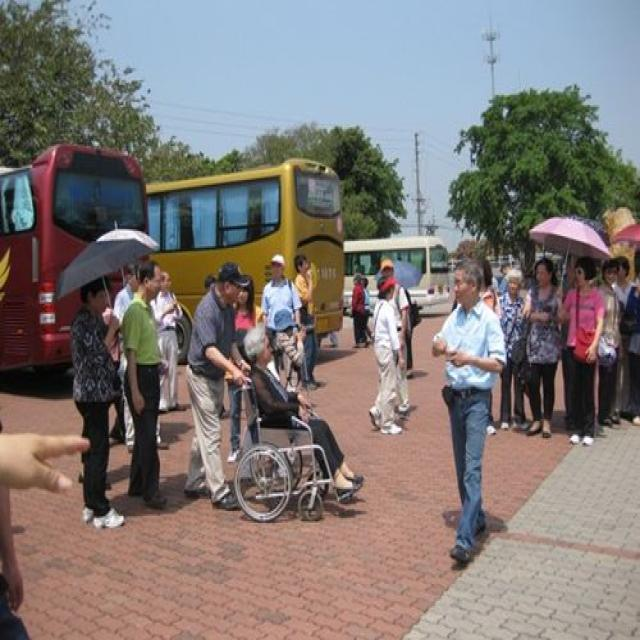wheelchairs: (225, 369, 347, 528)
